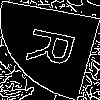R: (25, 24, 88, 72)
